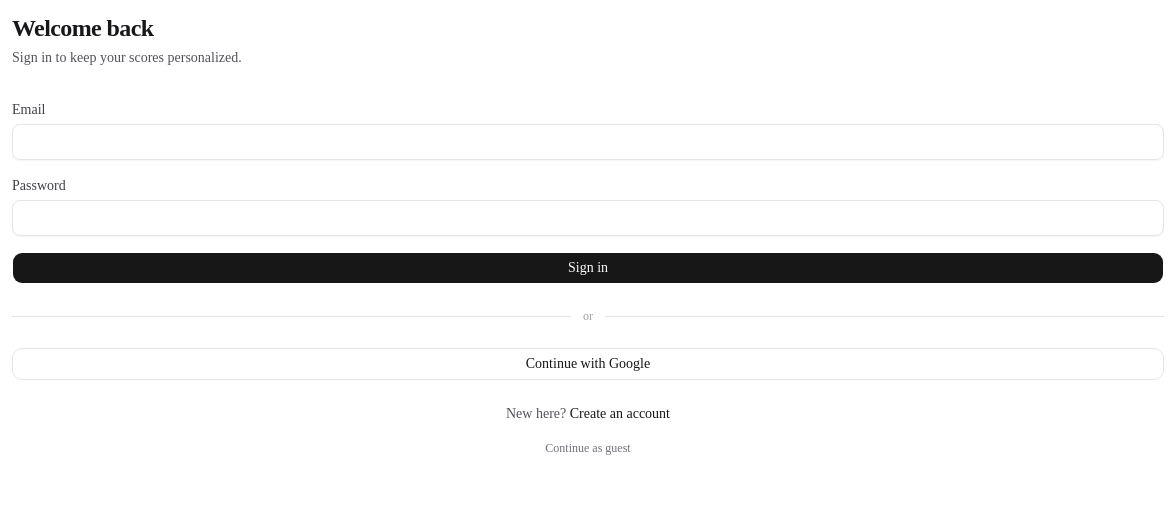
Test case: LoginForm — sign in (sad paths) › shows a friendly message on network failure
The image size is (1176, 508).
In the field labelled "Email": (588, 142) x1=12 y1=124 x2=1164 y2=160, type "user@example.com"
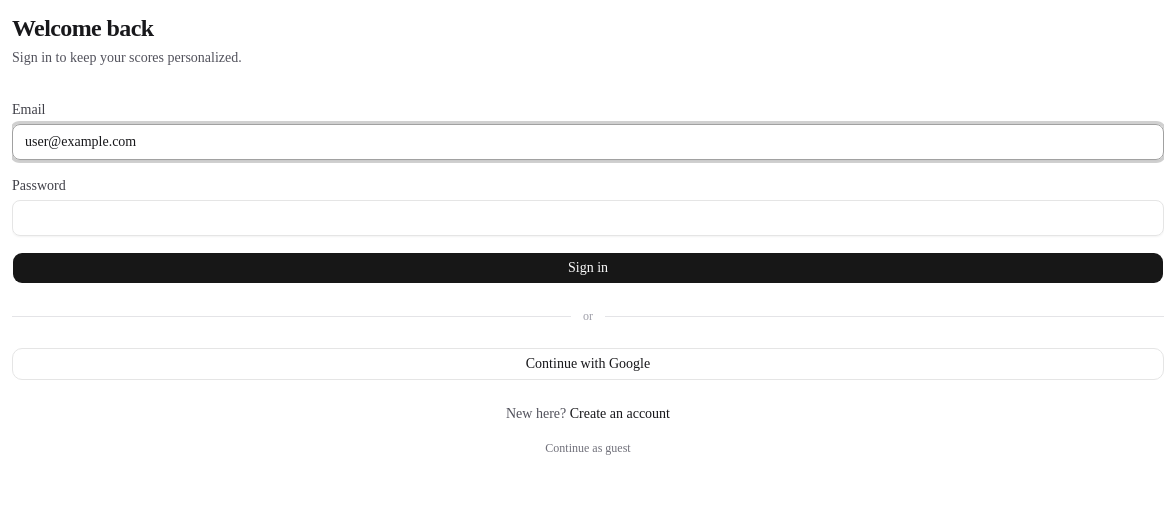
In the password field labelled "Password": (588, 218) x1=12 y1=200 x2=1164 y2=236, type "validpass1"
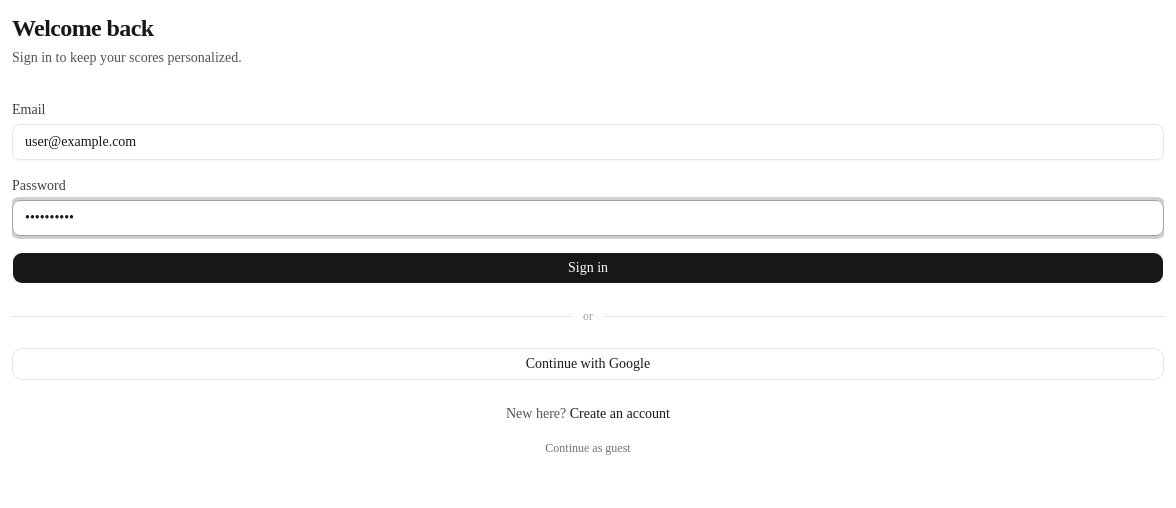
Click the button "Sign in": (588, 268) x1=12 y1=252 x2=1164 y2=284
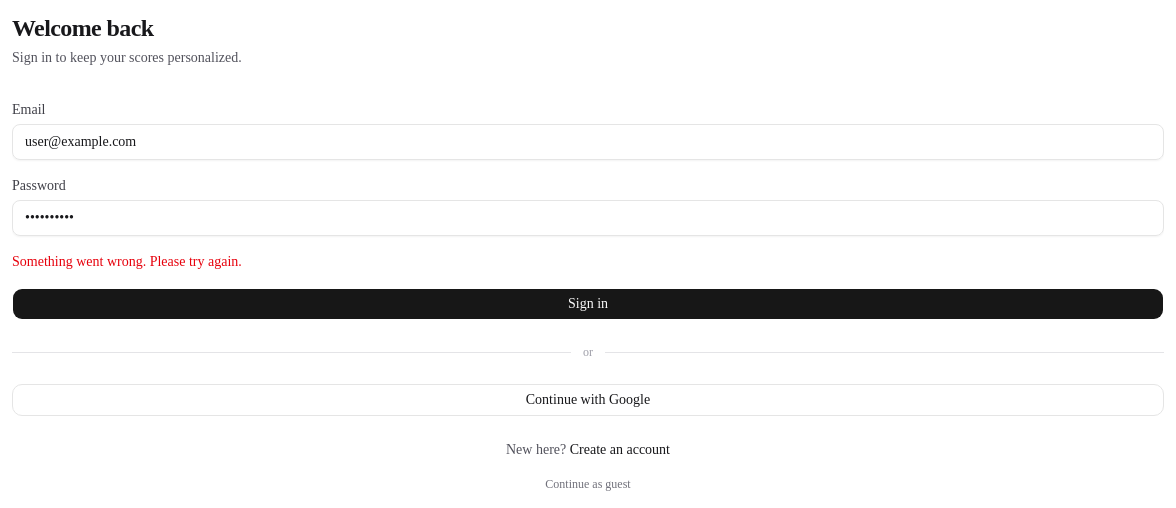
Expected: the message shows "Something went wrong", x1=12 y1=254 x2=242 y2=269
